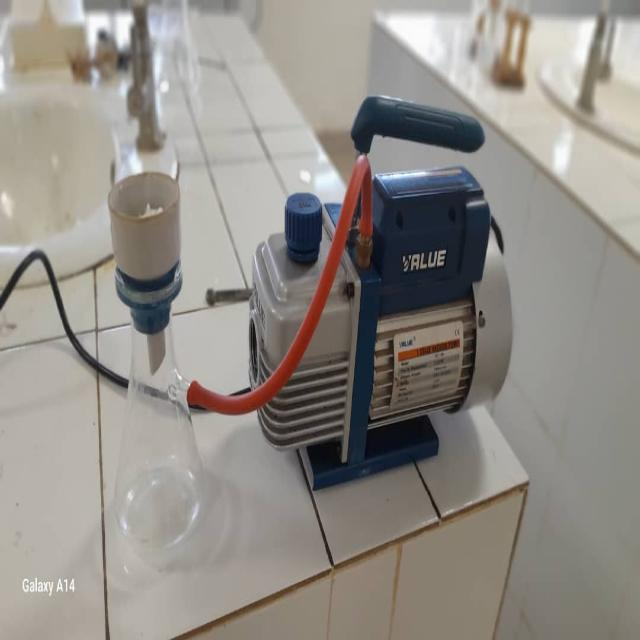Vacuum Pump: (244, 83, 514, 500)
